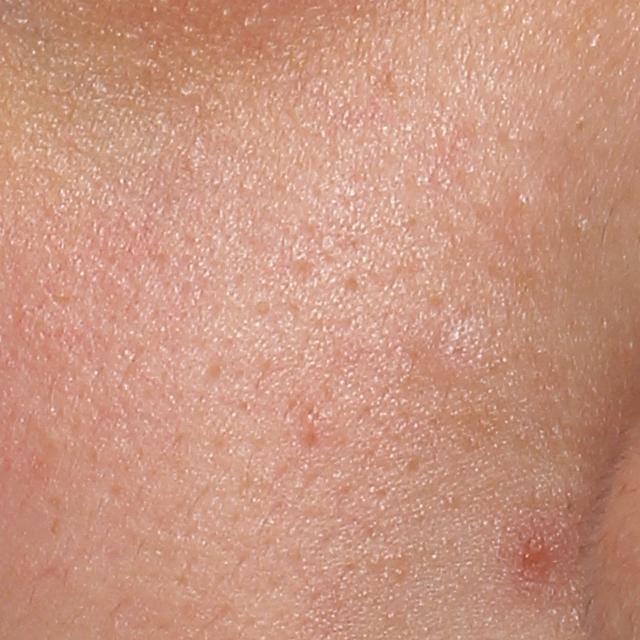comedo: (515, 190, 537, 211)
